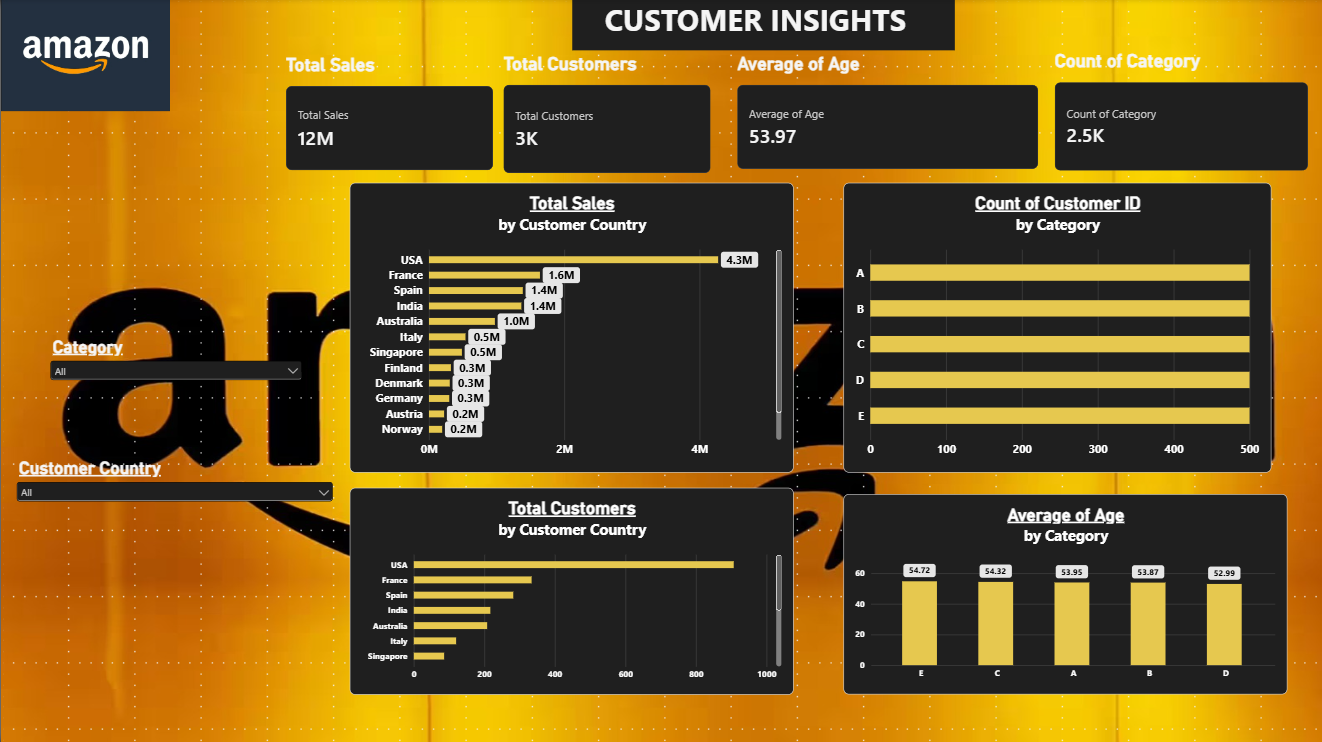

Layout of this report page (visuals, bound fields, positions):
{"tool":"powerbi","page":{"name":"Customer Insights","canvas":[1920,1080],"ordinal":3},"visuals":[{"type":"clusteredColumnChart","fields":{"Category":["Customers.Category"],"Y":["Avg(Customers.Age)"]},"box":[1221.6,717.6,643.1,290.2],"z":0},{"type":"barChart","fields":{"Category":["Customers.Category"],"Y":["CountNonNull(Customers.Customer ID)"]},"box":[1221.6,266.7,619.6,419.6],"z":1000},{"type":"barChart","fields":{"Category":["Customers.Customer Country"],"Y":["Customers.Total Customers"]},"box":[505.9,707.8,643.1,300],"z":2000},{"type":"barChart","fields":{"Category":["Customers.Customer Country"],"Y":["Sales Targets.Total Sales"]},"box":[505.9,266.7,643.1,419.6],"z":3000},{"type":"cardVisual","title":"Total Customers ","fields":{"Data":["Customers.Total Customers"]},"box":[728.3,77.2,300.5,175.3],"z":4000},{"type":"cardVisual","title":"Total Sales ","fields":{"Data":["Sales Targets.Total Sales"]},"box":[413.2,79.3,300.5,169],"z":5000},{"type":"cardVisual","title":"Average of Age","fields":{"Data":["Avg(Customers.Age)"]},"box":[1066.4,77.2,436.2,169],"z":6000},{"type":"cardVisual","title":"Count of Category","fields":{"Data":["CountNonNull(Customers.Category)"]},"box":[1527.7,75.1,367.3,175.3],"z":7000},{"type":"slicer","fields":{"Values":["Customers.Customer Country"]},"box":[17.6,664.7,467.5,85.6],"z":8000},{"type":"slicer","fields":{"Values":["Customers.Category"]},"box":[66.8,488.3,373.6,123.1],"z":9000},{"type":"textbox","box":[899.5,0,603.1,75.1],"z":10000},{"type":"image","box":[0,0,245.1,162.7],"z":10001}]}

Visuals, with their boxes in screenshot pixels (x1, y1, x2, y2), scaled from the page's 1920x1080 canvas onto the 1322x742 screenshot:
clusteredColumnChart - Customers.Category x Avg(Customers.Age): (left=841, top=493, right=1284, bottom=692)
barChart - Customers.Category x CountNonNull(Customers.Customer ID): (left=841, top=183, right=1268, bottom=472)
barChart - Customers.Customer Country x Customers.Total Customers: (left=348, top=486, right=791, bottom=692)
barChart - Customers.Customer Country x Sales Targets.Total Sales: (left=348, top=183, right=791, bottom=472)
"Total Customers " cardVisual: (left=501, top=53, right=708, bottom=173)
"Total Sales " cardVisual: (left=285, top=54, right=491, bottom=171)
"Average of Age" cardVisual: (left=734, top=53, right=1035, bottom=169)
"Count of Category" cardVisual: (left=1052, top=52, right=1305, bottom=172)
slicer - Customers.Customer Country: (left=12, top=457, right=334, bottom=515)
slicer - Customers.Category: (left=46, top=335, right=303, bottom=420)
textbox: (left=619, top=0, right=1035, bottom=52)
image: (left=0, top=0, right=169, bottom=112)
